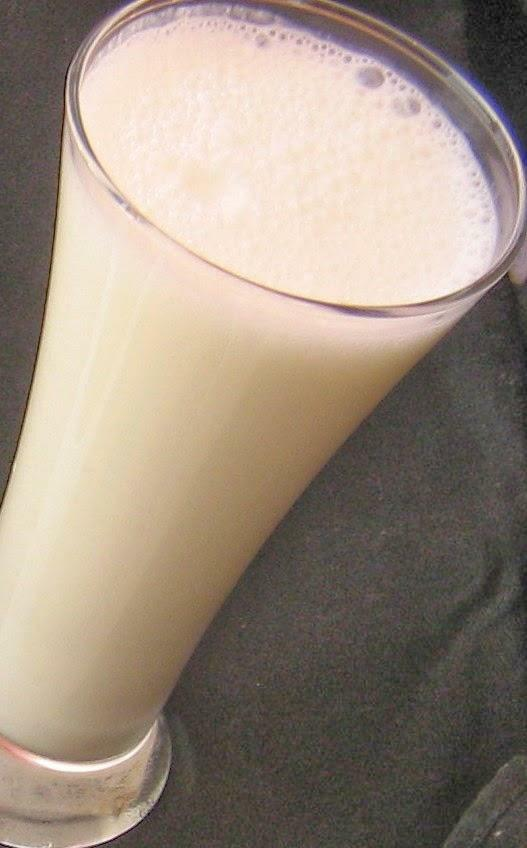Lassi: (0, 19, 500, 848)
